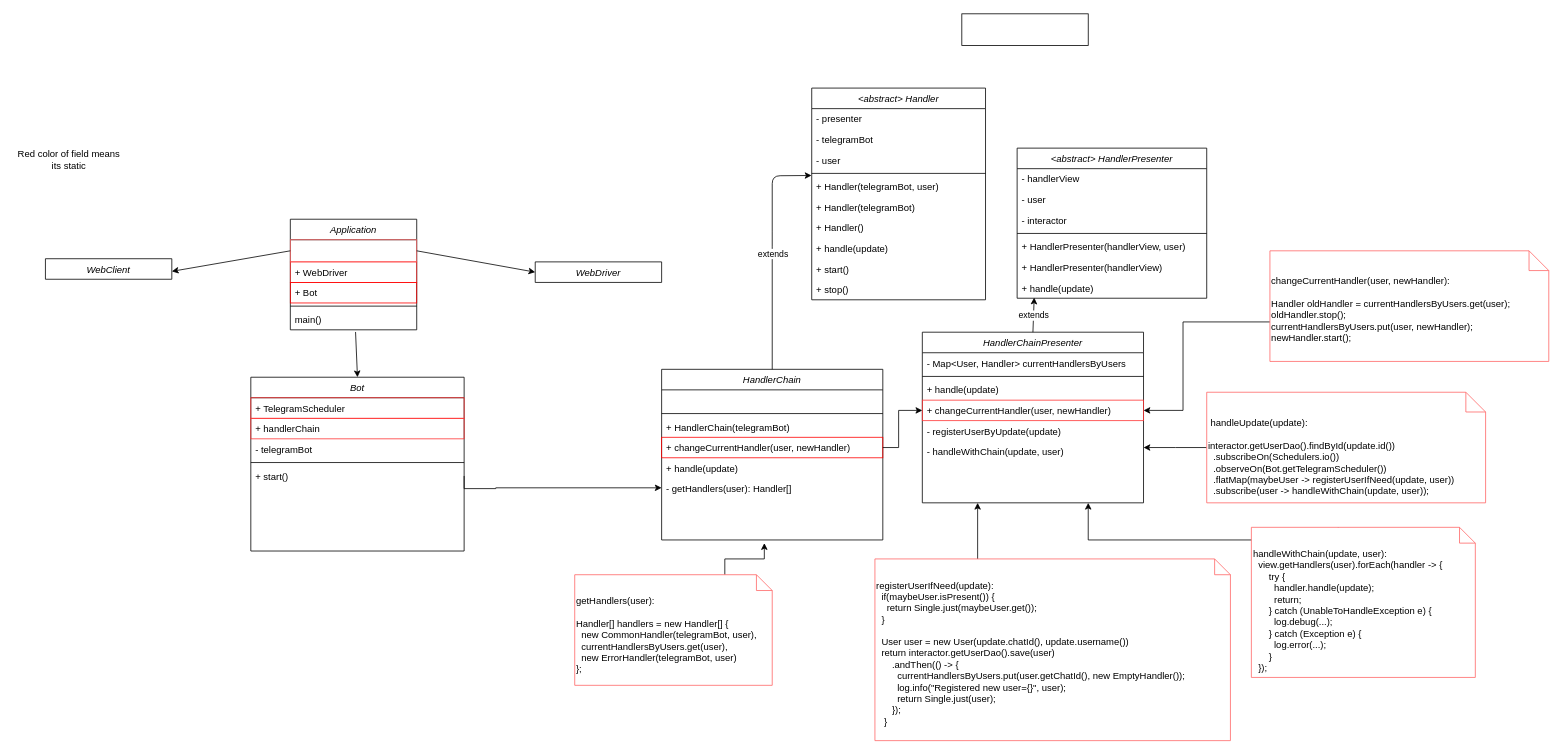
This 1563x754 diagram has some shape labels left out. The shapes that lost their labels are listed below. From the top down, each one's centre as x and y in pixels, then its label:
At pixel 1024 29: "UnableToHandleException".
At pixel 353 250: "+ WebClient".
